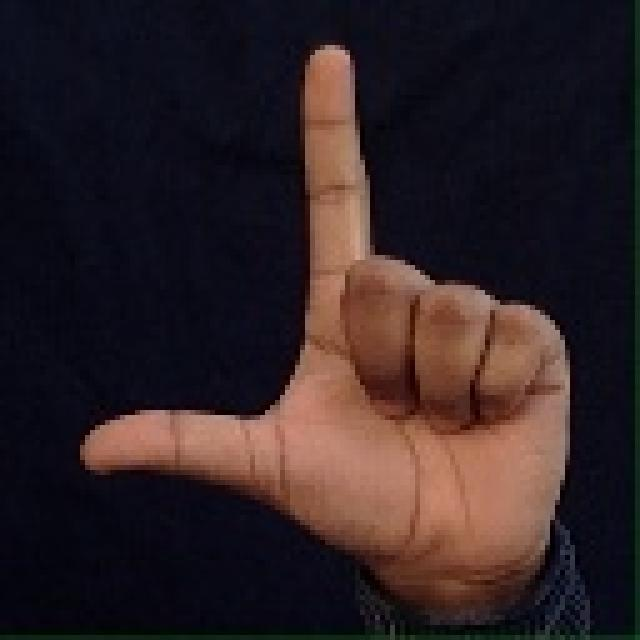L: (114, 39, 566, 598)
